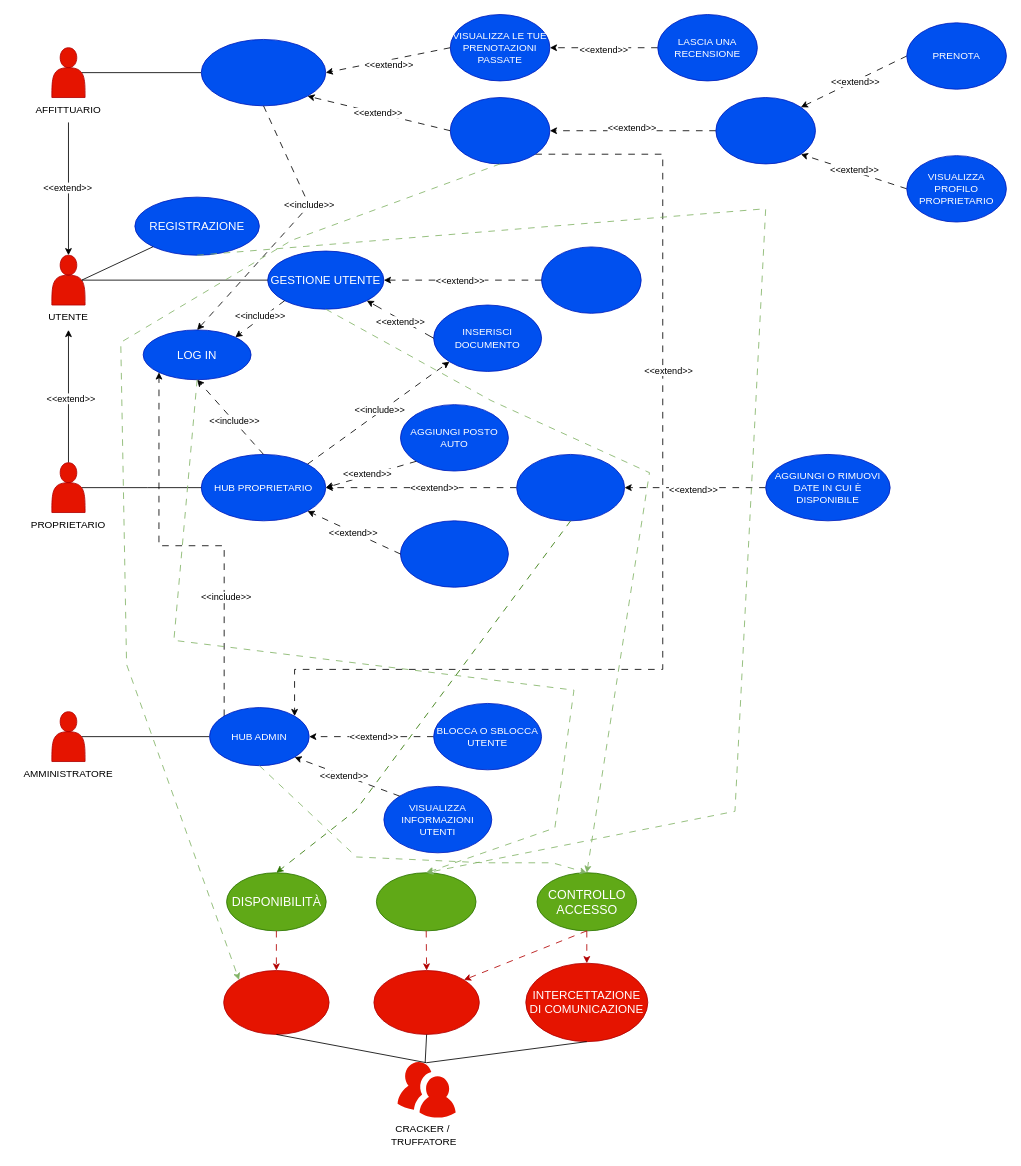
The diagram is 1021 pixels wide and 1166 high, and some of its shapes have lost their labels. Here are the shapes that lost their labels. From the top down, the centre of each, then its label:
At [263,72]: "HUB AFFITTUARIO".
At [499,130]: "VISUALIZZA ELENCO POSTI AUTO".
At [765,130]: "VISUALIZZA PAGINA POSTO AUTO".
At [591,279]: "MODIFICA CREDENZIALI".
At [570,487]: "VISUALIZZA L'ELENCO DEI TUOI POSTI AUTO".
At [454,553]: "VISUALIZZA PRENOTAZIONI RICEVUTE".
At [426,901]: "GARANTIRE PROTEZIONE".
At [276,1002]: "DOS".
At [426,1002]: "FURTO DI CREDENZIALI".
